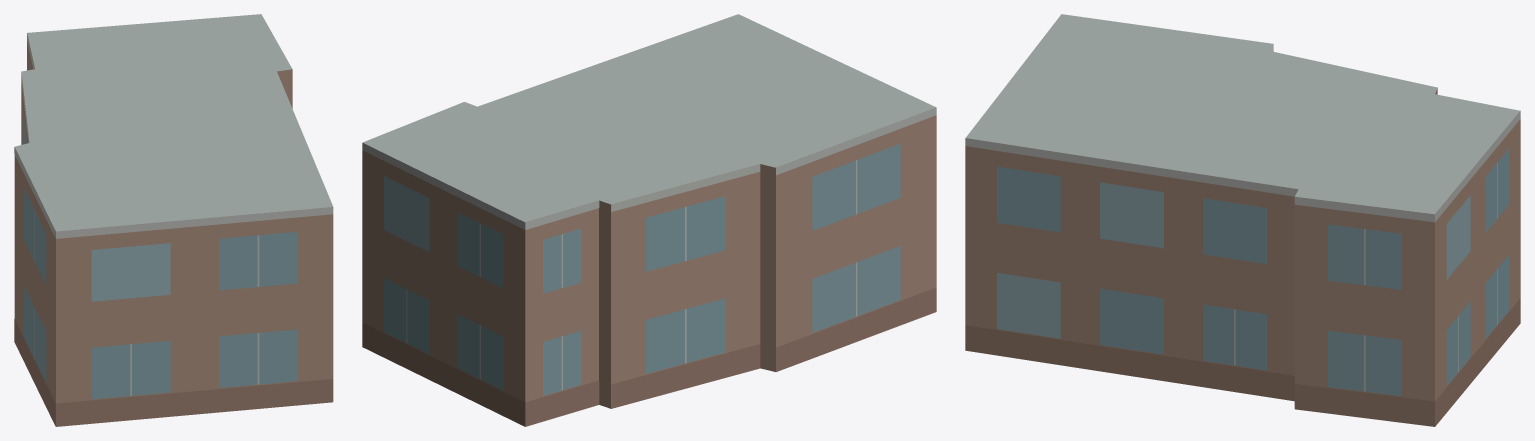
Rendered from survey-upis-32666150.glb.
3 renders of one model, left to right at view 1: azimuth 30°, elevation 25°; view 2: azimuth 150°, elevation 25°; view 3: azimuth 270°, elevation 25°, orthographic. The views are drawn at different scales.
Parts seen in each view (by area): view 1: survey-upis-32666150.tmp; view 2: survey-upis-32666150.tmp; view 3: survey-upis-32666150.tmp.
Part boxes in pixels (x1=…): survey-upis-32666150.tmp: x1=14, y1=14, x2=333, y2=426; survey-upis-32666150.tmp: x1=362, y1=14, x2=936, y2=426; survey-upis-32666150.tmp: x1=965, y1=14, x2=1520, y2=426.
Bounding box in the file's own units: 13.15 × 6.5 × 15.4.
